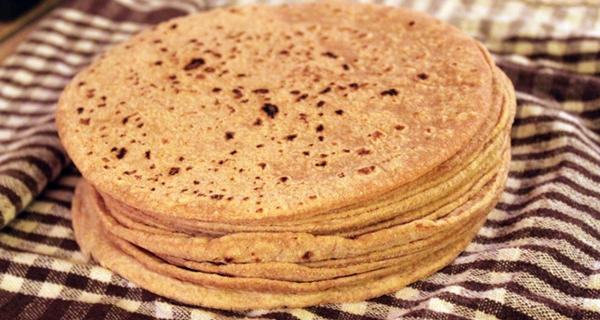roti: (56, 4, 517, 284)
